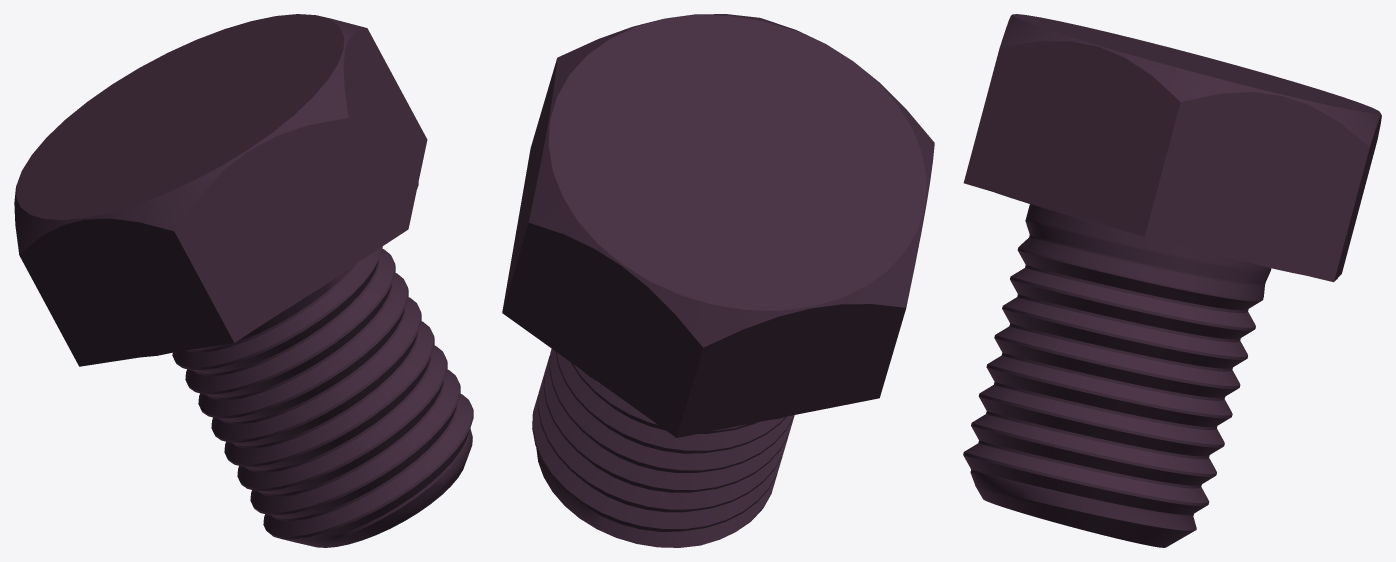
Rendered from bolt.glb.
3 renders of one model, left to right at view 1: azimuth 30°, elevation 25°; view 2: azimuth 150°, elevation 25°; view 3: azimuth 270°, elevation 25°, orthographic. The views are drawn at different scales.
Visible parts, largest first — view 1: Bolt; view 2: Bolt; view 3: Bolt.
Part boxes in pixels (x1,y1,x2,y2): Bolt: (14,14,473,547); Bolt: (502,14,934,547); Bolt: (963,14,1381,547).
Size of the model in its own units: 5.21 by 6.18 by 4.68.
